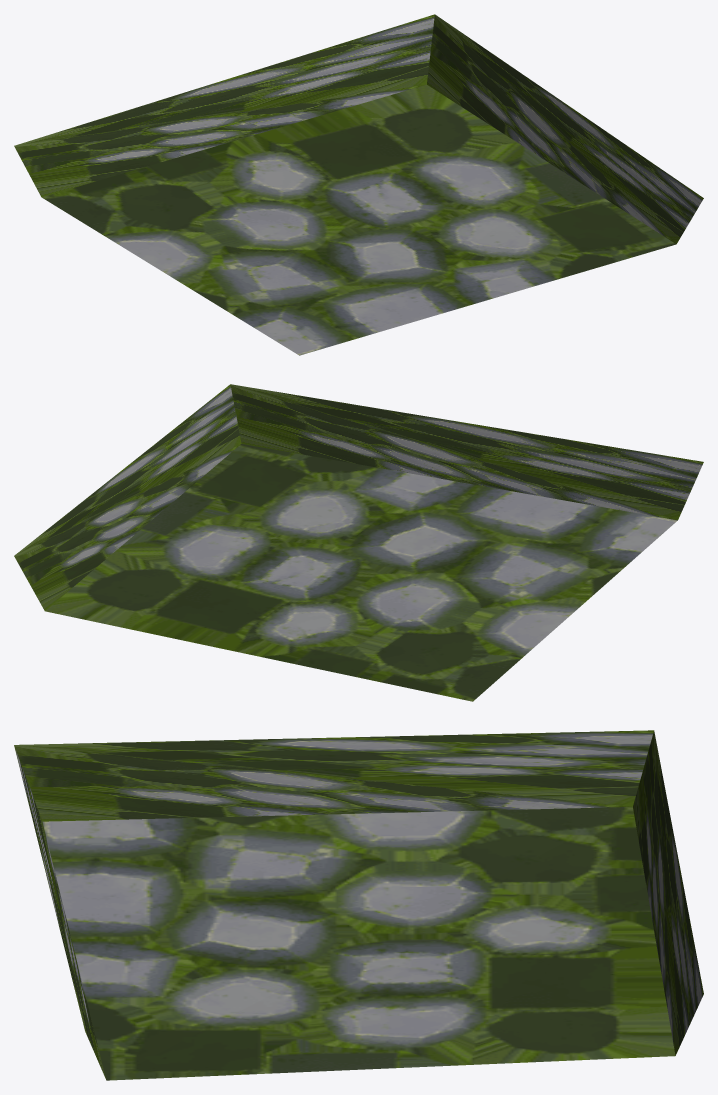
Rendered from vista-path-stone.glb.
3 views of the same model, one above another, from view 1: azimuth 30°, elevation 25°; view 2: azimuth 150°, elevation 25°; view 3: azimuth 270°, elevation 25° (orthographic). The views are drawn at different scales.
Parts seen in each view (by area): view 1: vista-path-stone; view 2: vista-path-stone; view 3: vista-path-stone.
Boxes of the visible parts, x1,y1,x2,y2 form: vista-path-stone: (14,14,703,355); vista-path-stone: (14,384,703,701); vista-path-stone: (14,730,703,1080).
Size of the model in its own units: 0.98 by 0.125 by 0.97.
1 material, 1 textured.
